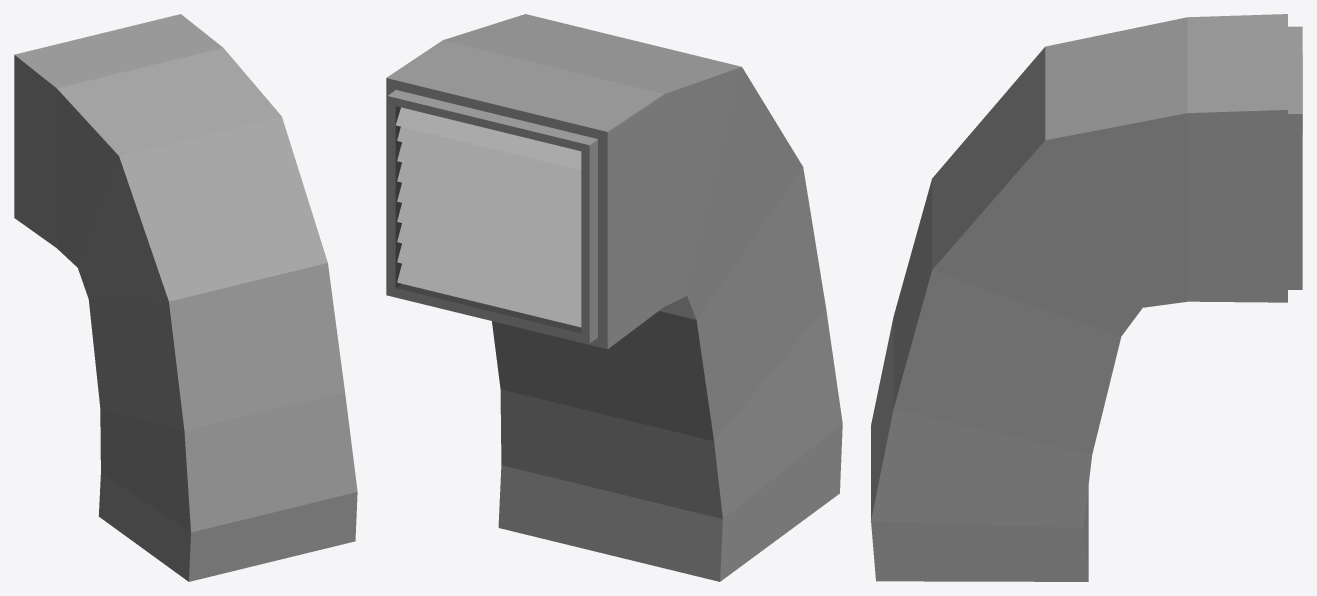
File: Vent2.fbx
3 views of the same model, side by side, from view 1: azimuth 30°, elevation 25°; view 2: azimuth 150°, elevation 25°; view 3: azimuth 270°, elevation 25° (orthographic). The views are drawn at different scales.
Visible parts, largest first — view 1: vents_2; view 2: vents_2; view 3: vents_2.
Boxes of the visible parts, bbox=[...] form: vents_2: bbox=[14, 14, 357, 581]; vents_2: bbox=[386, 14, 842, 581]; vents_2: bbox=[871, 14, 1302, 581].
Bounding box in the file's own units: 164 × 376 × 312.
